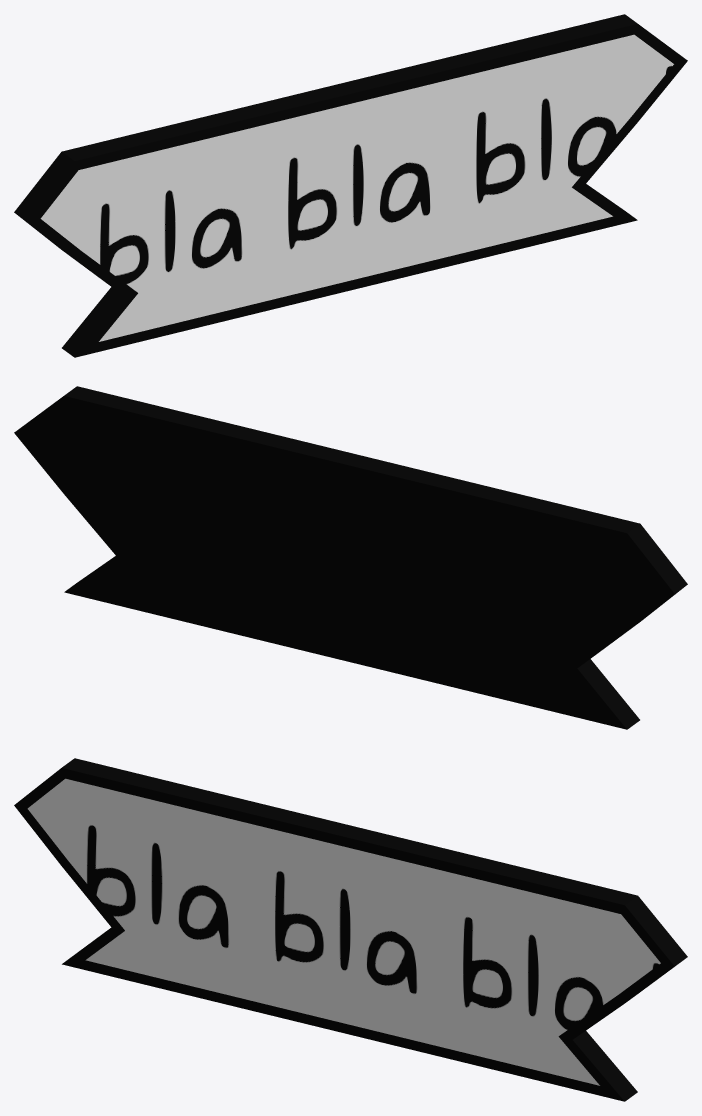
Rendered from mdl_poland_poempieces_14.gltf.
3 views of the same model, one above another, from view 1: azimuth 30°, elevation 25°; view 2: azimuth 150°, elevation 25°; view 3: azimuth 330°, elevation 25° (orthographic).
Parts seen in each view (by area): view 1: Plane.016; view 2: Plane.016; view 3: Plane.016.
Part boxes in pixels (<box>): Plane.016: <box>14,14,687,357</box>; Plane.016: <box>14,386,687,729</box>; Plane.016: <box>14,758,687,1101</box>.
Bounding box in the file's own units: 0.8798 × 0.25 × 0.0304.
2 materials, 2 textured.
